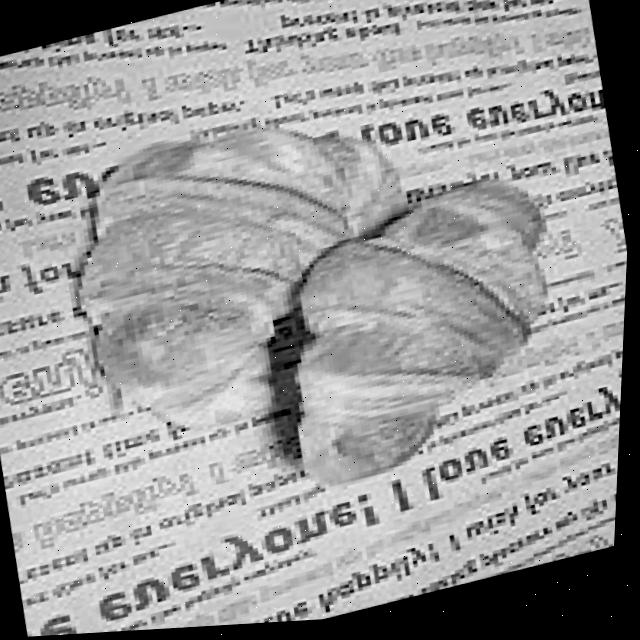面包点心: (37, 36, 616, 569)
